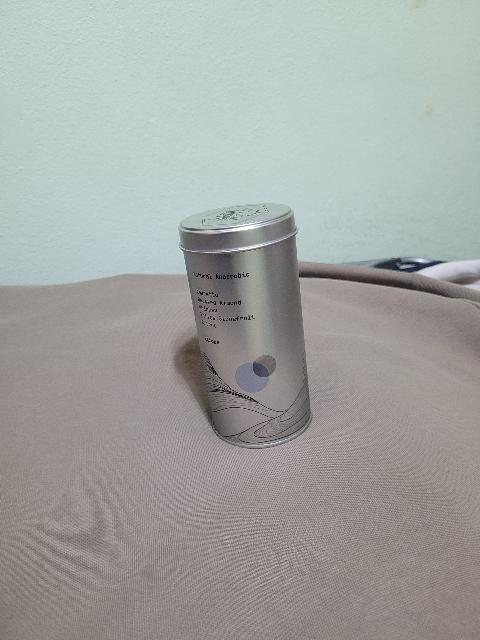Metal: (174, 200, 315, 452)
